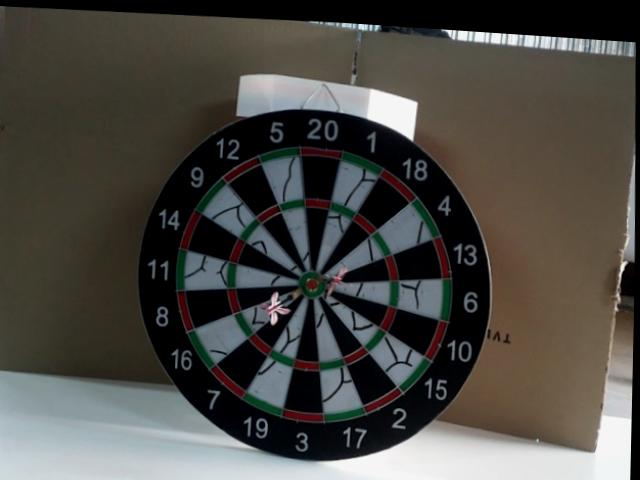bullseye: (301, 273, 322, 297)
